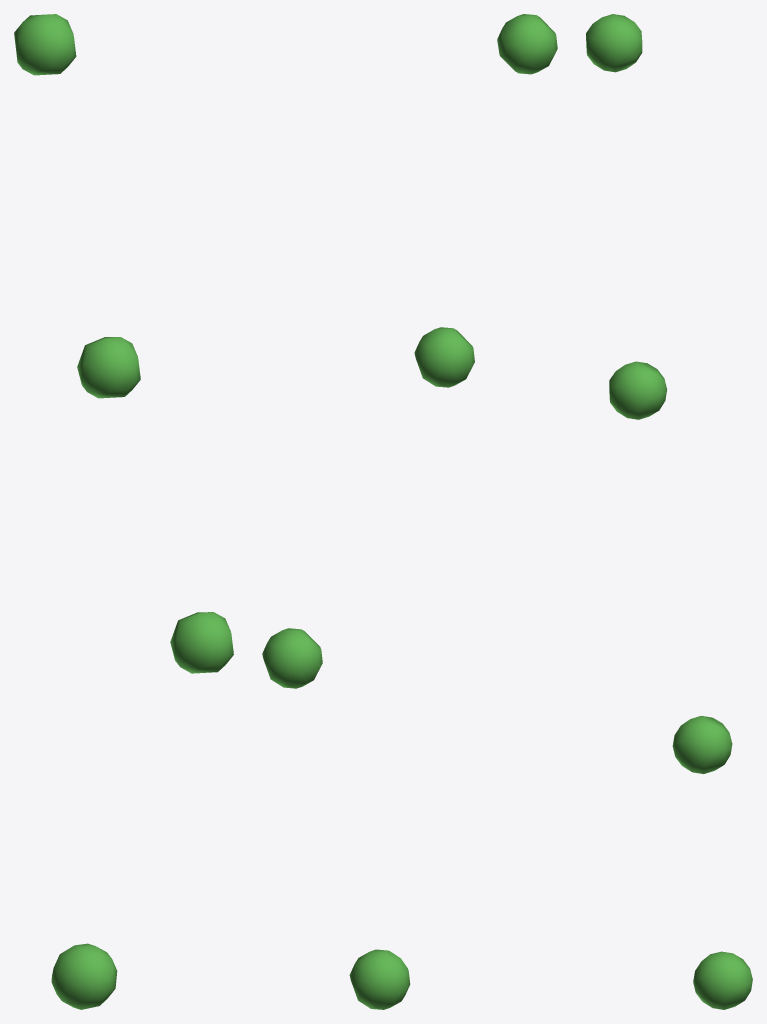
Rendered from linfatico-inferior-superficial-inguinal-nodes-l.glb.
3 renders of one model, left to right at view 1: azimuth 30°, elevation 25°; view 2: azimuth 150°, elevation 25°; view 3: azimuth 270°, elevation 25°, orthographic. The views are drawn at different scales.
Parts seen in each view (by area): view 1: Inferior superficial inguinal nodes.l; view 2: Inferior superficial inguinal nodes.l; view 3: Inferior superficial inguinal nodes.l.
Part boxes in pixels (x1,y1,x2,y2): Inferior superficial inguinal nodes.l: (14, 14, 233, 1009); Inferior superficial inguinal nodes.l: (262, 14, 557, 1009); Inferior superficial inguinal nodes.l: (586, 14, 752, 1009).
Size of the model in its own units: 0.0119 by 0.0454 by 0.00725.
